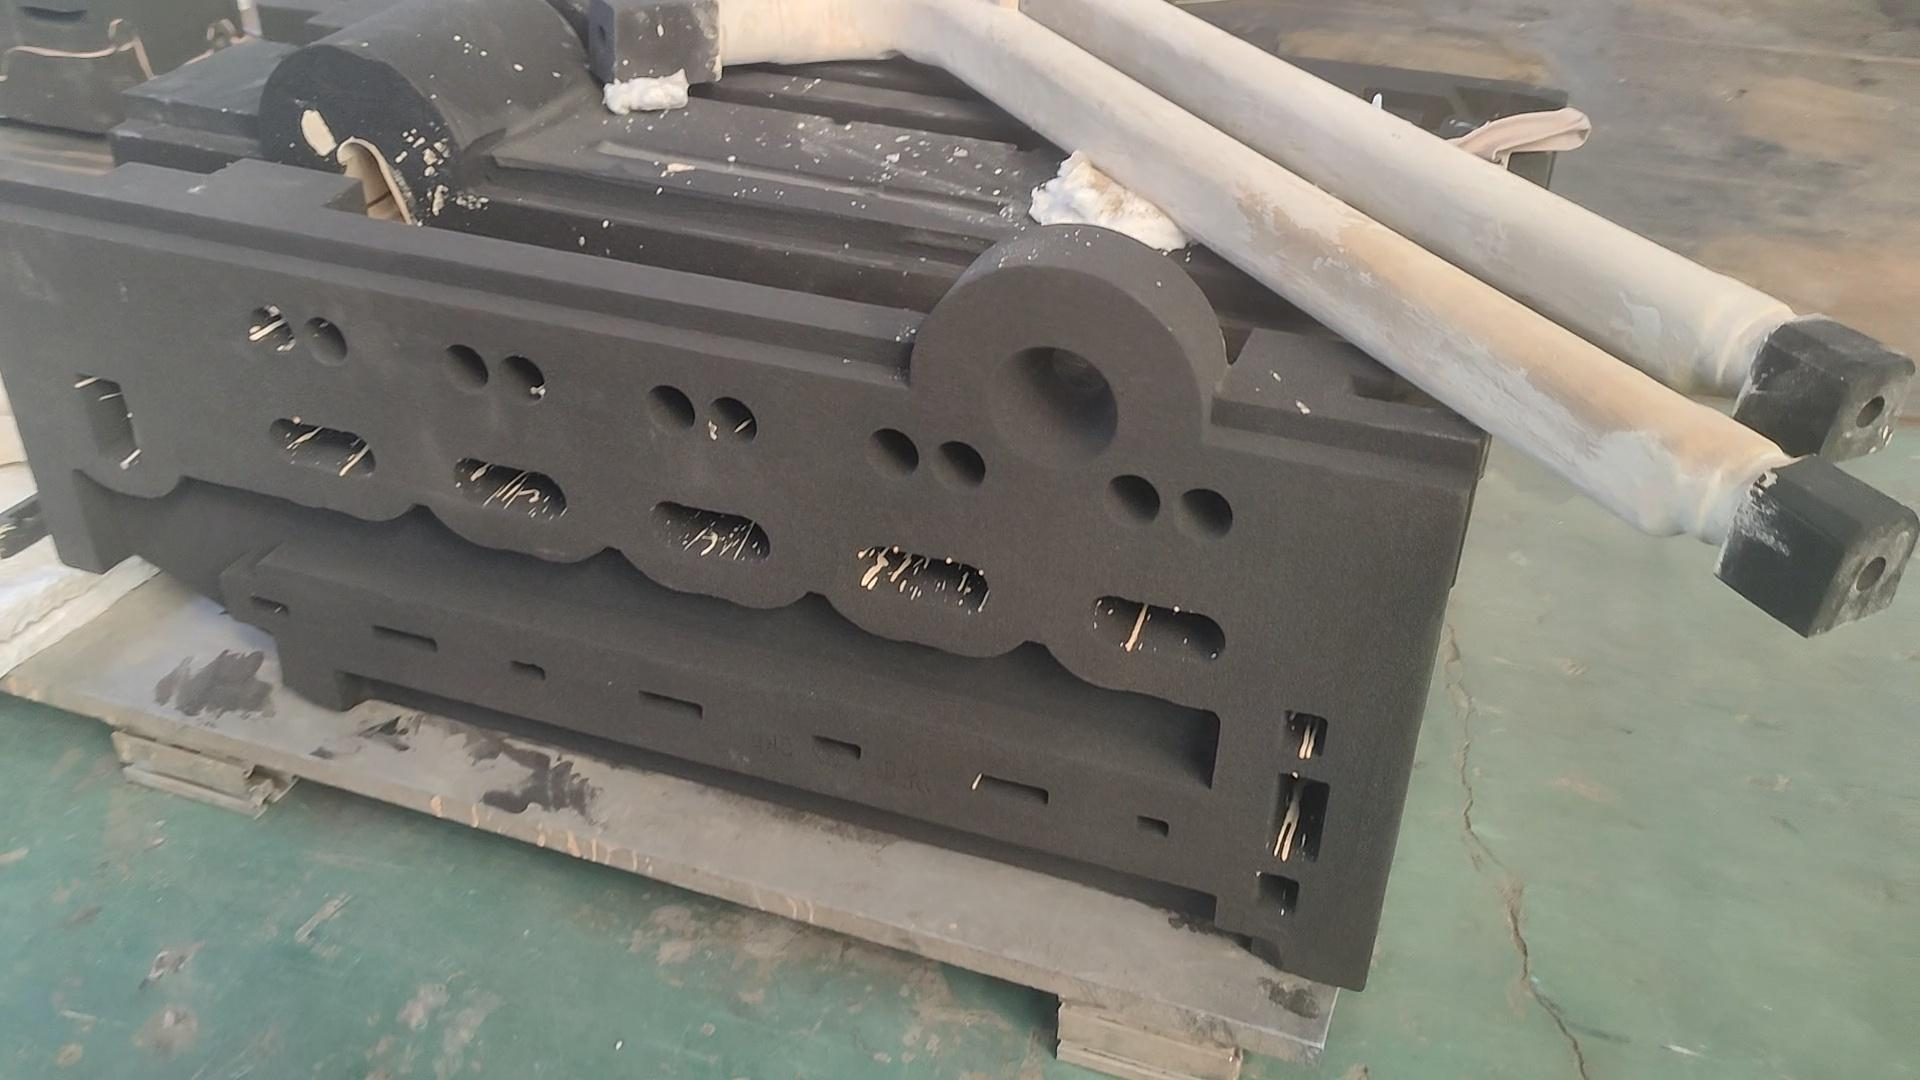pouring hole: (988, 347, 1118, 469)
